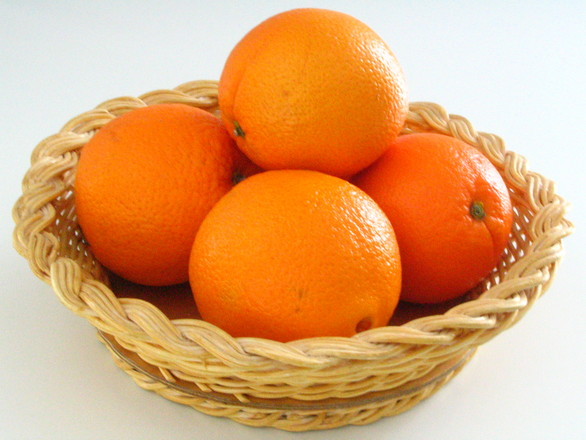Orange: (187, 170, 402, 343), (219, 8, 410, 181), (73, 103, 242, 287), (350, 132, 513, 303)
